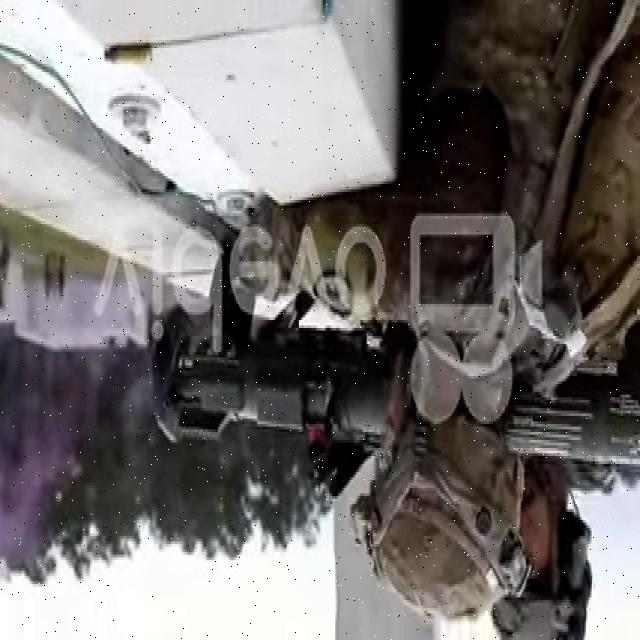bazooka: (147, 233, 640, 484)
